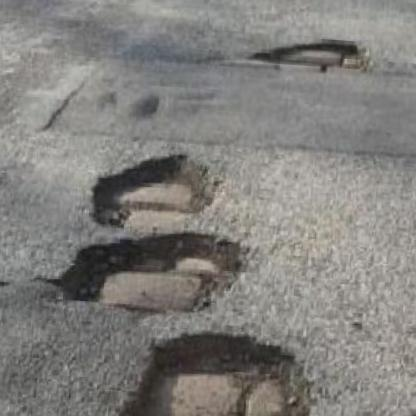pothole: (49, 219, 250, 320), (107, 322, 316, 416), (87, 141, 221, 229), (244, 27, 373, 74)
